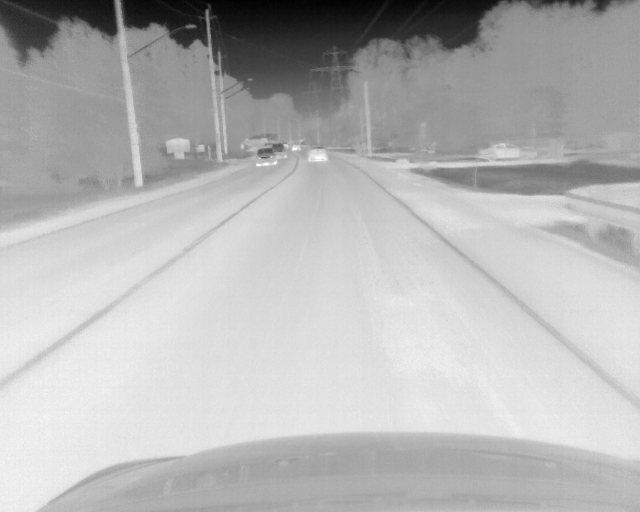car: (479, 143, 537, 162), (256, 147, 276, 167), (307, 146, 328, 162), (273, 143, 288, 159), (290, 142, 301, 153)
